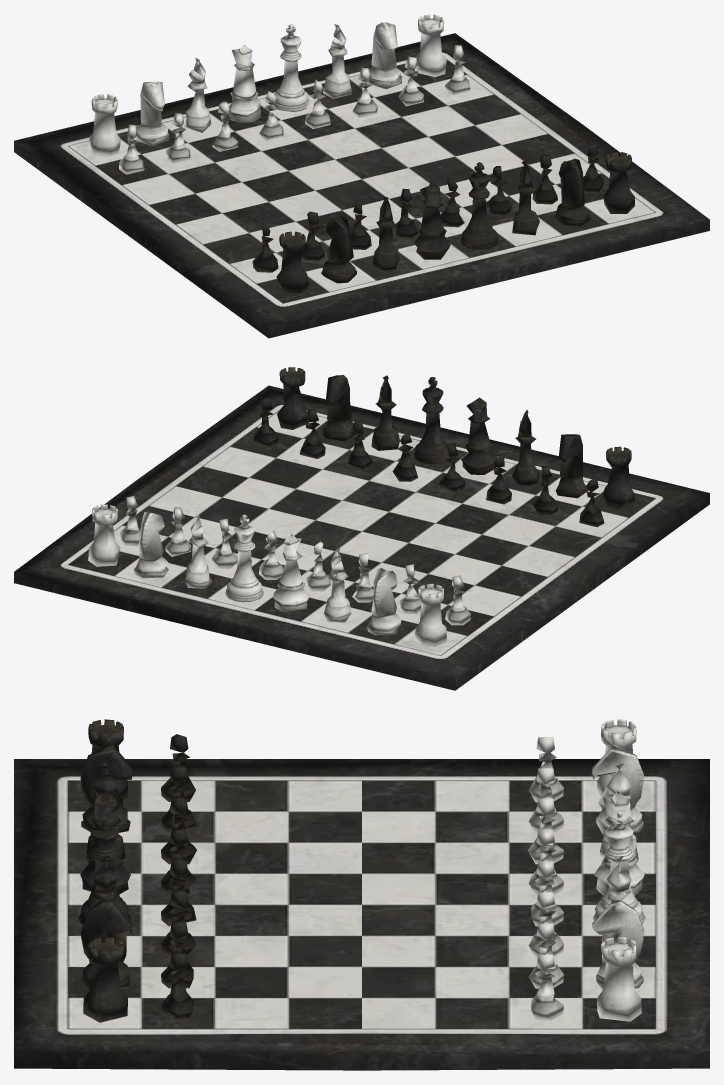
The model's file is chess_set.glb.
3 renders of one model, top to bottom at view 1: azimuth 30°, elevation 25°; view 2: azimuth 150°, elevation 25°; view 3: azimuth 270°, elevation 25°, orthographic. The views are drawn at different scales.
Parts seen in each view (by area): view 1: board, piece_rook_white_01, piece_rook_black_01, piece_king_black, piece_king_white; view 2: board, piece_rook_white_01, piece_rook_black_01, piece_king_white, piece_king_black; view 3: board, piece_rook_black_01, piece_rook_white_01, piece_king_white, piece_king_black.
Part boxes in pixels (<box>): board: <box>14,33,709,338</box>; piece_rook_white_01: <box>88,14,470,174</box>; piece_rook_black_01: <box>252,143,634,293</box>; piece_king_black: <box>460,162,498,249</box>; piece_king_white: <box>273,24,309,111</box>; board: <box>14,385,709,690</box>; piece_rook_white_01: <box>88,496,470,646</box>; piece_rook_black_01: <box>253,367,635,527</box>; piece_king_white: <box>225,514,263,602</box>; piece_king_black: <box>414,377,449,464</box>; board: <box>14,759,709,1070</box>; piece_rook_black_01: <box>80,719,196,1022</box>; piece_rook_white_01: <box>528,719,644,1021</box>; piece_king_white: <box>593,811,645,924</box>; piece_king_black: <box>78,811,130,924</box>.
Bounding box in the file's own units: 0.5507 × 0.1103 × 0.5482.
3 materials, 3 textured.
